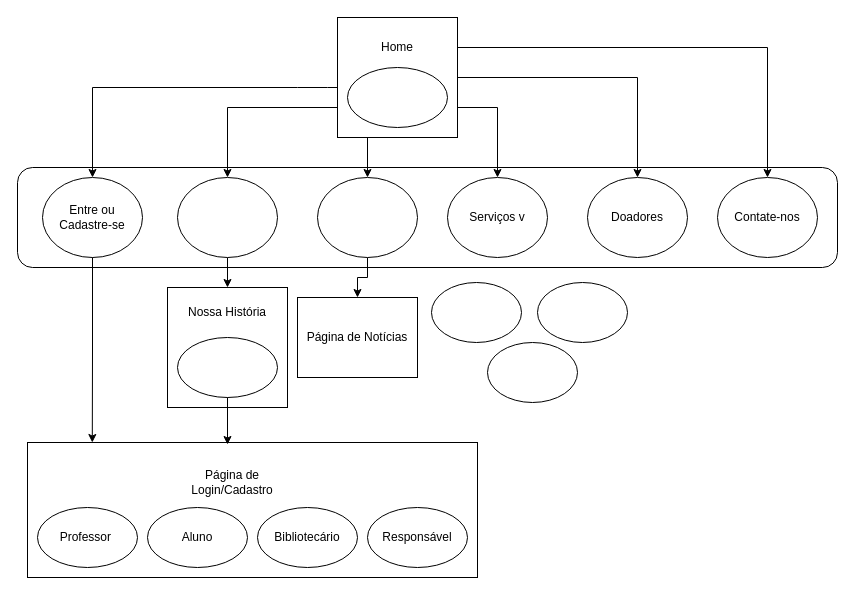
Image size: 855x595. Some labels were removed from this diagram. The box of each missing label's shape, as (x1, y1, x2, y2) in pixels:
Junte-se a nós: (176, 336, 278, 398)
Notícias: (316, 176, 418, 258)
Seja um doador: (346, 66, 448, 128)
Sobre nós: (176, 176, 278, 258)
